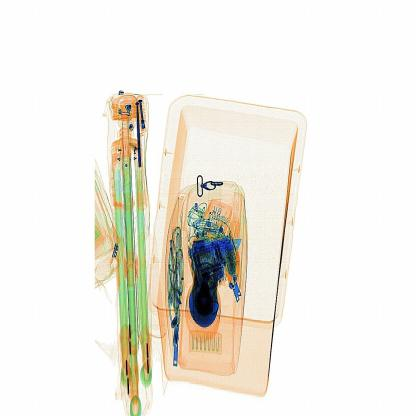pliers: (188, 231, 248, 263)
